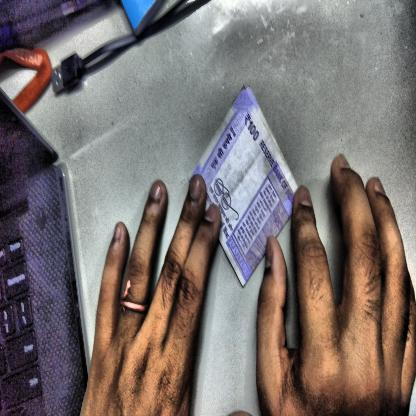Rs100: (241, 108, 262, 146)
